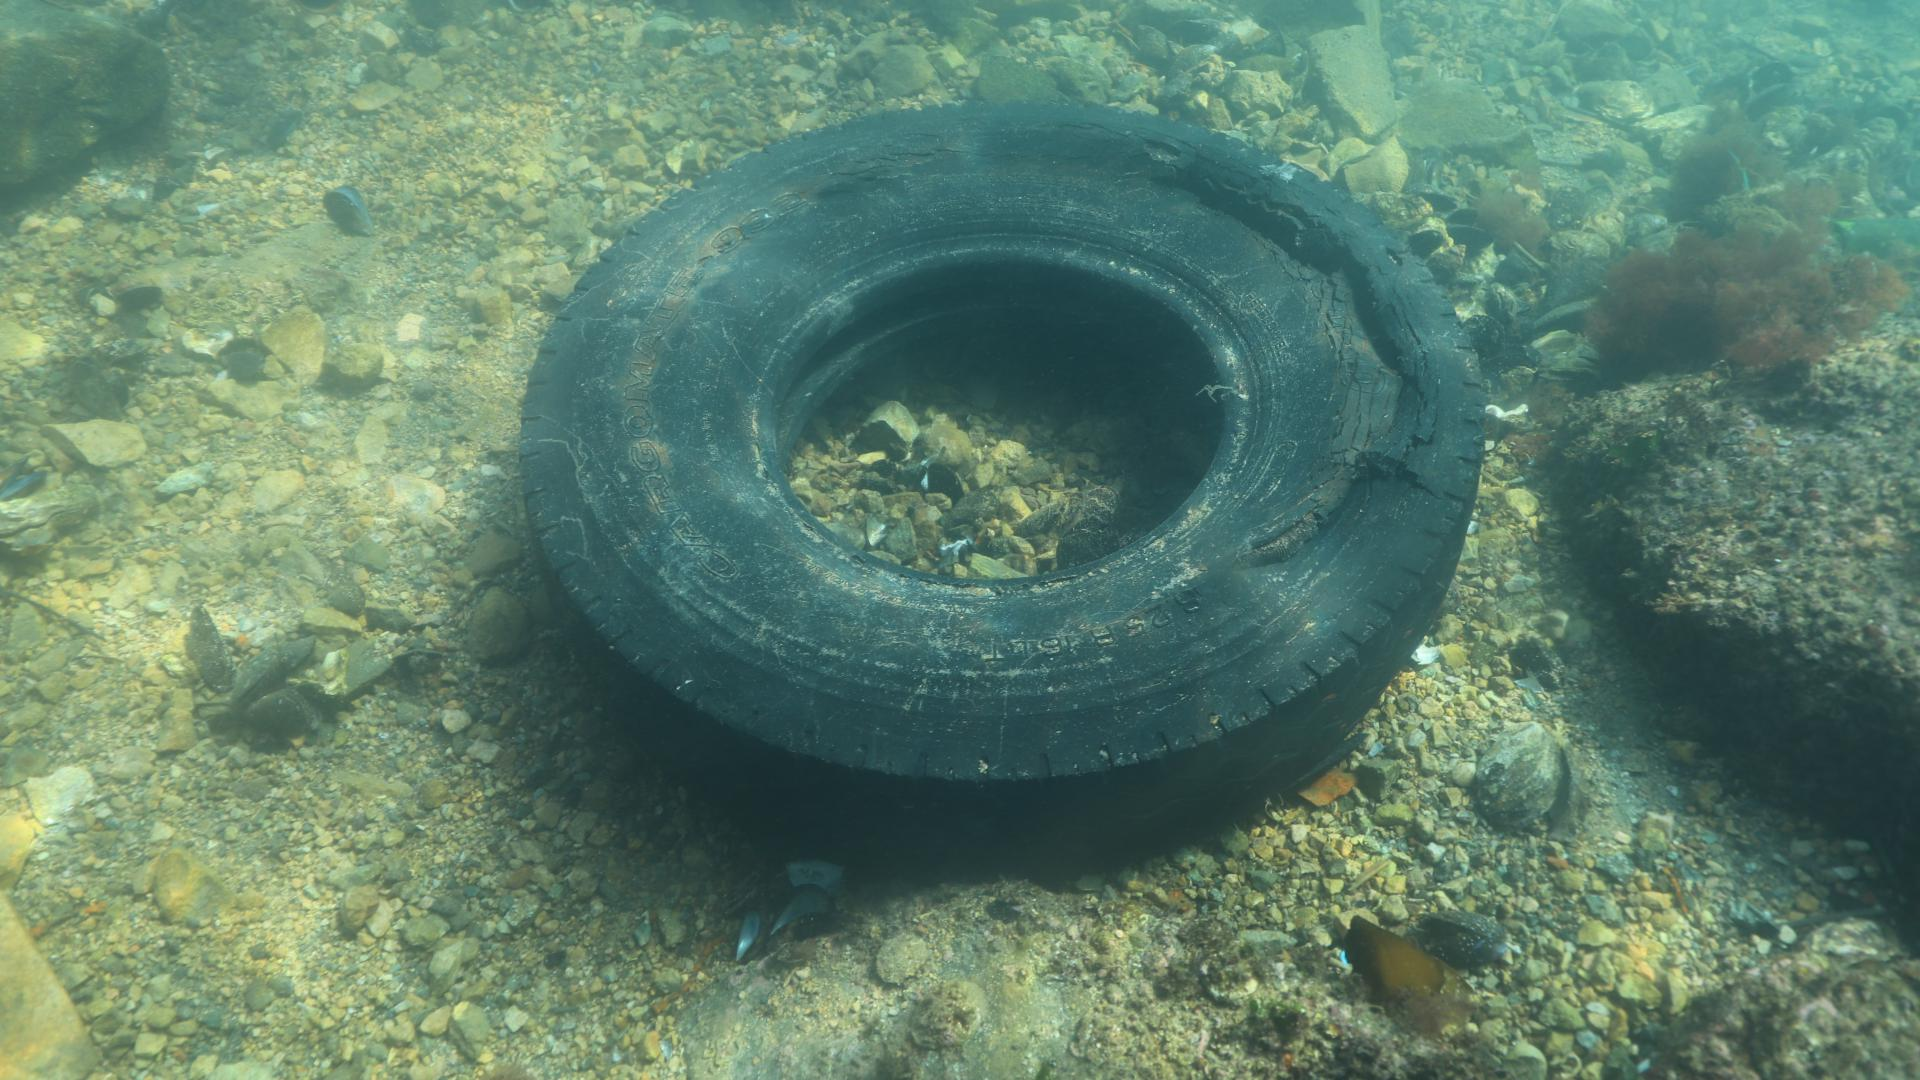tire: (512, 94, 1486, 884)
